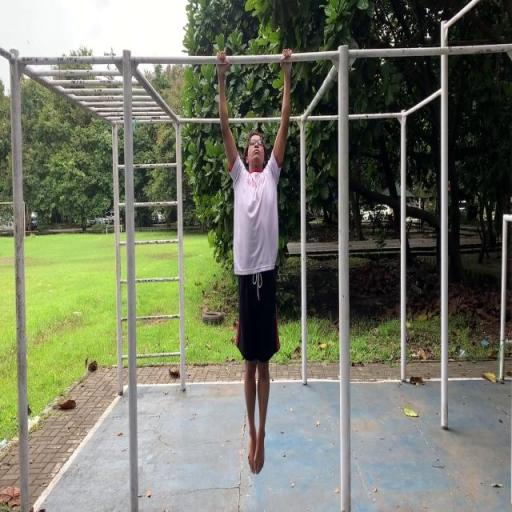Normal_BrenchPress: (215, 49, 294, 477)
